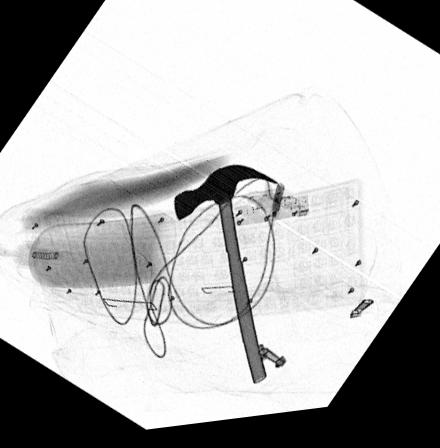Hammer: (172, 168, 279, 390)
